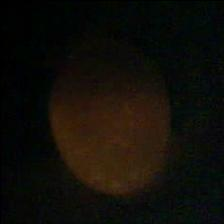fertile: (46, 37, 174, 196)
